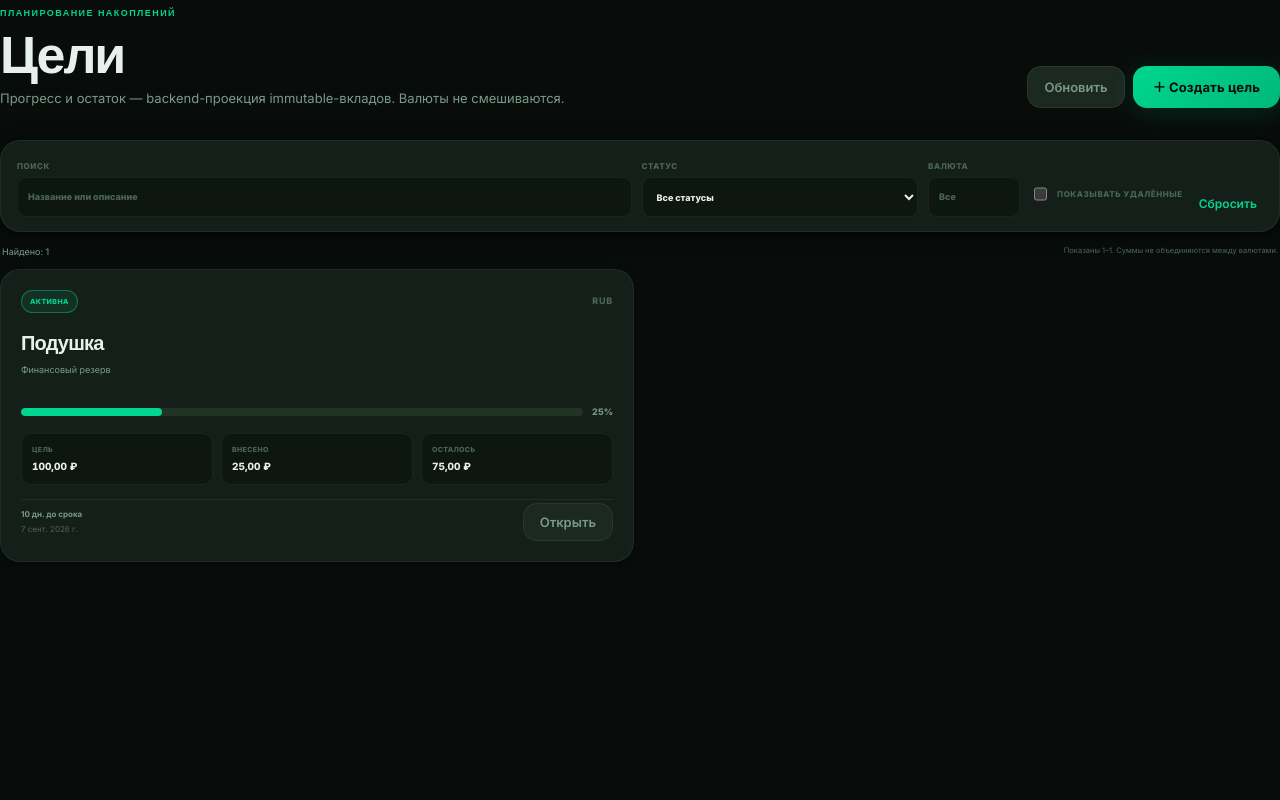
Test: a Goal deleted by another client converges to read-only deleted state
This screenshot has width=1280, height=800.
Click the button "Открыть" at {"x": 568, "y": 522}, box [523, 503, 613, 541]
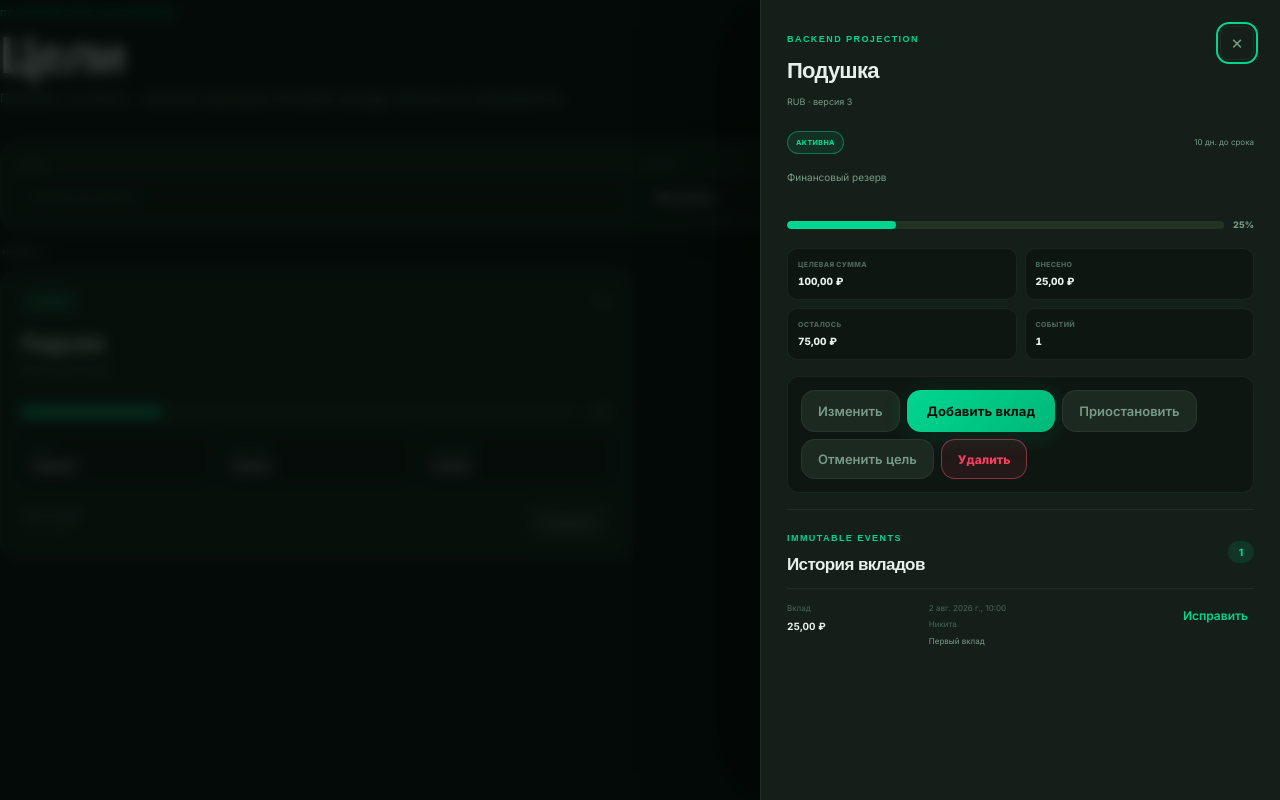
Click the button "Приостановить" at {"x": 1130, "y": 411}, box [1062, 390, 1197, 432]
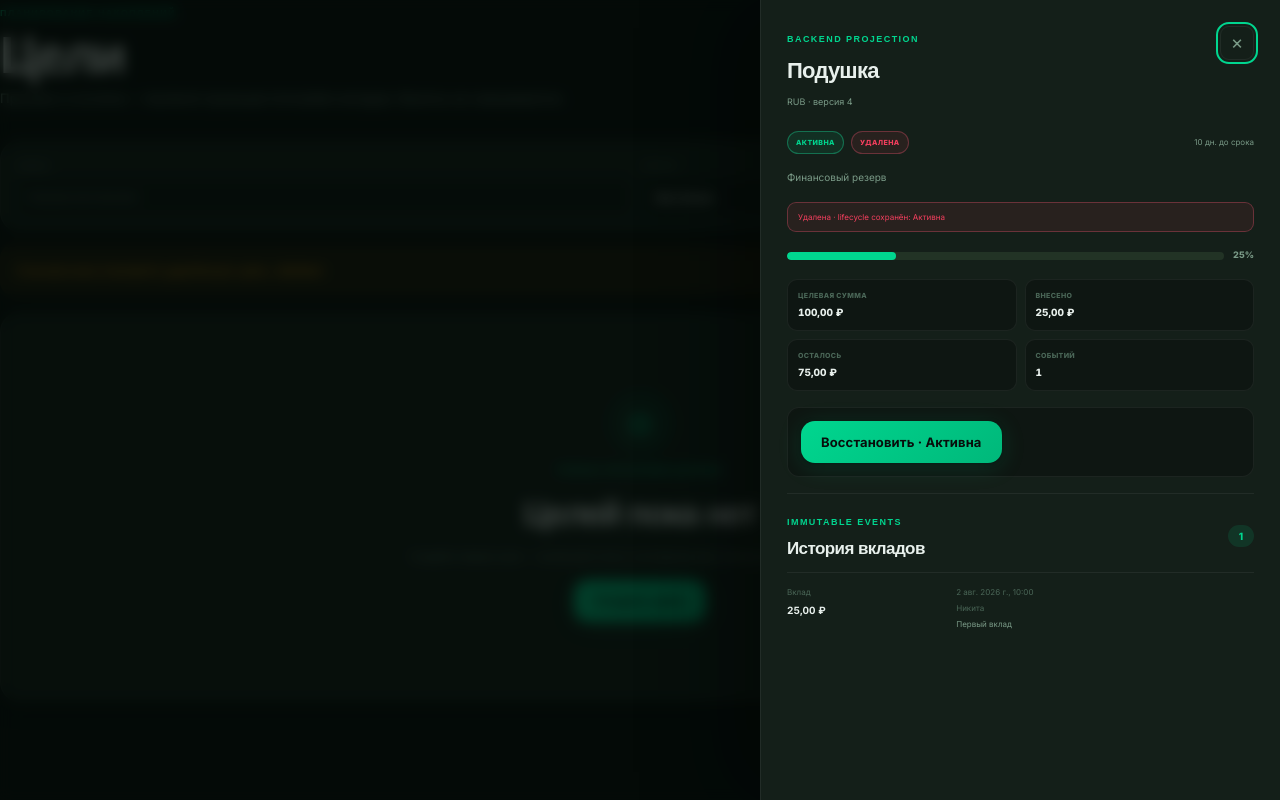
expect the dialog shows "Удалена": met, box [860, 138, 900, 147]
expect the dialog shows "Восстановить · Активна": met, box [760, 0, 1279, 799]
